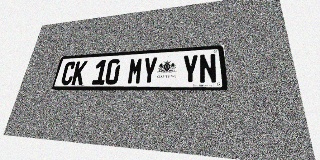0: (104, 59, 121, 85)
1: (92, 59, 108, 85)
C: (60, 61, 77, 85)
K: (71, 61, 88, 85)
M: (127, 57, 144, 84)
N: (199, 53, 217, 84)
Y: (182, 54, 199, 84), (141, 57, 158, 84)
